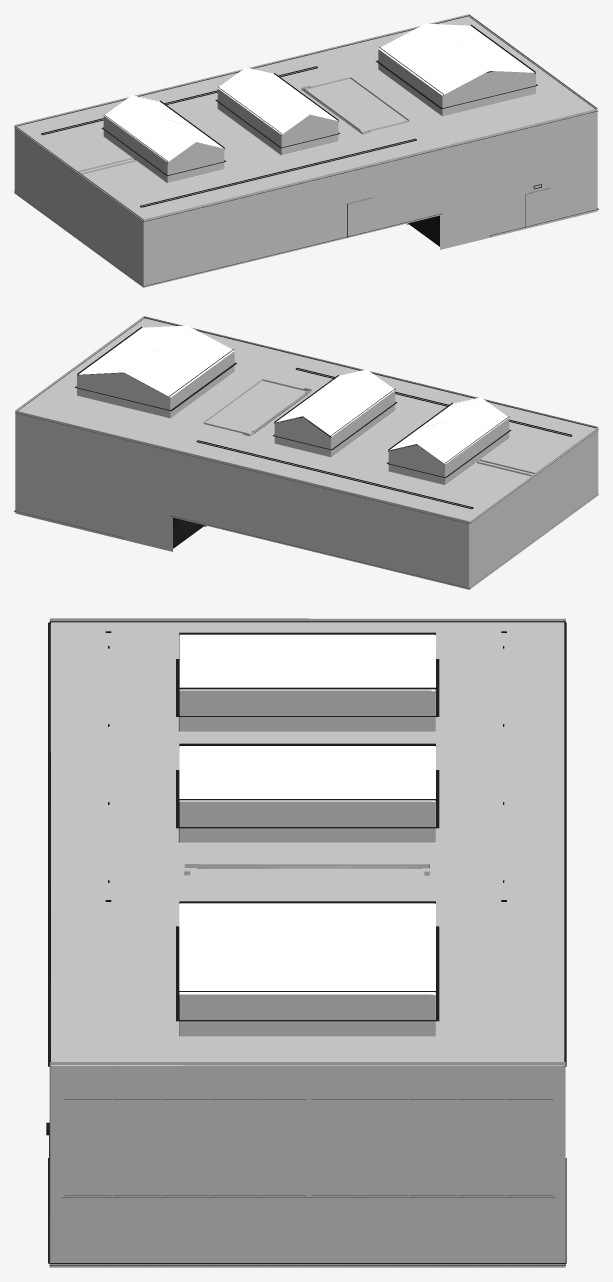
Rendered from art_gallery.fbx.
3 views of the same model, one above another, from view 1: azimuth 30°, elevation 25°; view 2: azimuth 150°, elevation 25°; view 3: azimuth 270°, elevation 25° (orthographic). The views are drawn at different scales.
Parts seen in each view (by area): view 1: ceiling, walls, corner, skyLight, floor; view 2: ceiling, walls, corner, skyLight, floor; view 3: ceiling, walls, skyLight, corner, Window.
Boxes of the visible parts, left/top/right/bottom form: ceiling: left=15, top=16, right=595, bottom=220; walls: left=14, top=14, right=597, bottom=287; corner: left=14, top=15, right=598, bottom=286; skyLight: left=101, top=24, right=537, bottom=175; floor: left=408, top=209, right=598, bottom=246; ceiling: left=17, top=318, right=597, bottom=522; walls: left=15, top=316, right=598, bottom=589; corner: left=14, top=317, right=598, bottom=588; skyLight: left=75, top=326, right=511, bottom=478; floor: left=14, top=511, right=204, bottom=548; ceiling: left=51, top=622, right=564, bottom=1065; walls: left=49, top=618, right=565, bottom=1267; skyLight: left=176, top=632, right=439, bottom=1021; corner: left=48, top=621, right=566, bottom=1264; Window: left=62, top=1099, right=555, bottom=1197.
Bounding box in the file's own units: 3060 × 915 × 1512.
